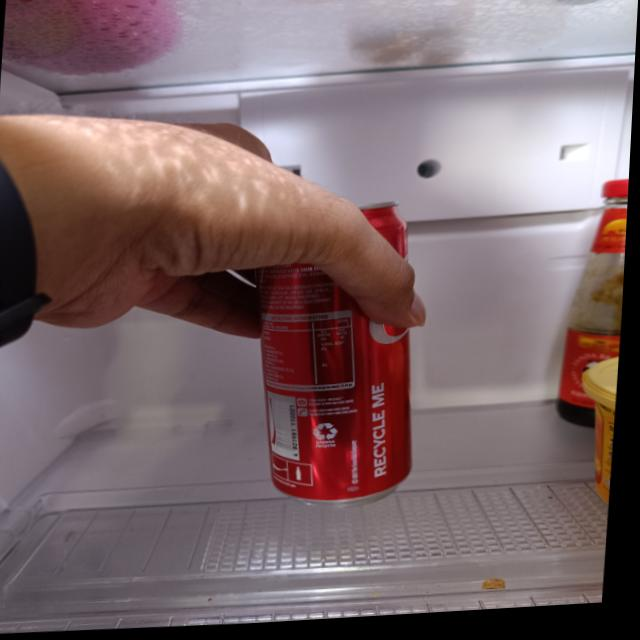coke: (247, 201, 437, 507)
